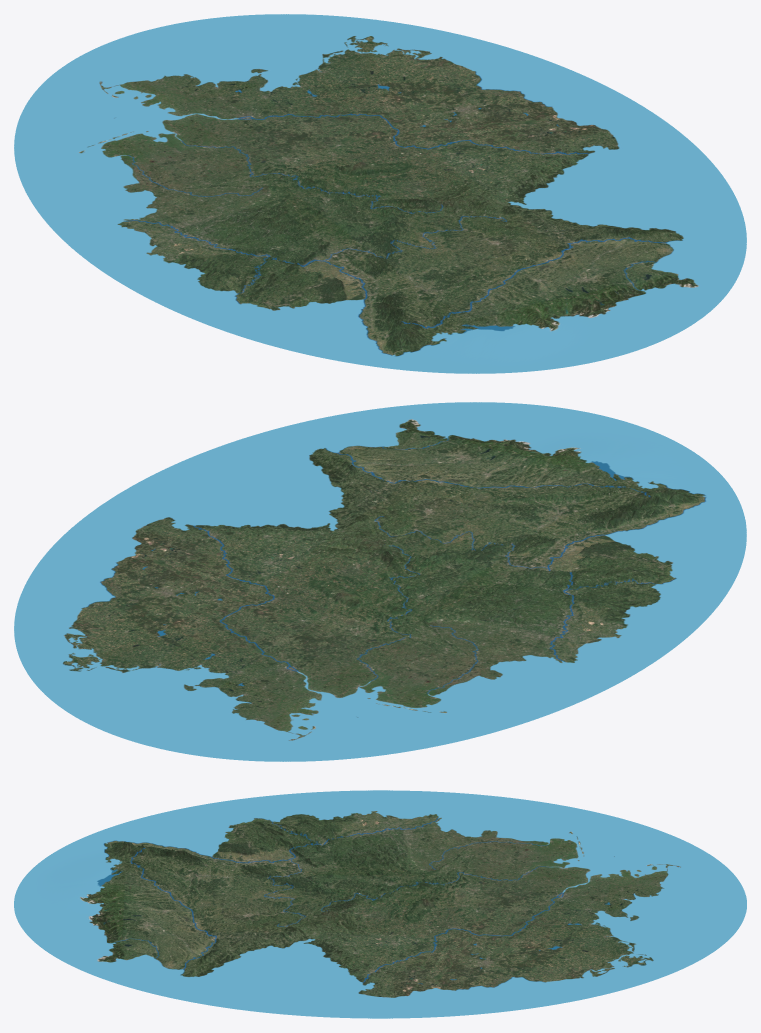
Rendered from DEU-previa-terrain.glb.
3 views of the same model, one above another, from view 1: azimuth 30°, elevation 25°; view 2: azimuth 150°, elevation 25°; view 3: azimuth 270°, elevation 25° (orthographic). The views are drawn at different scales.
Parts seen in each view (by area): view 1: Alemanha; view 2: Alemanha; view 3: Alemanha.
Part boxes in pixels (<box>): Alemanha: <box>14,14,746,373</box>; Alemanha: <box>14,402,746,761</box>; Alemanha: <box>14,790,746,1018</box>.
Size of the model in its own units: 1.58 by 0.037 by 2.15.
Materials: 1 (1 with a texture image).
